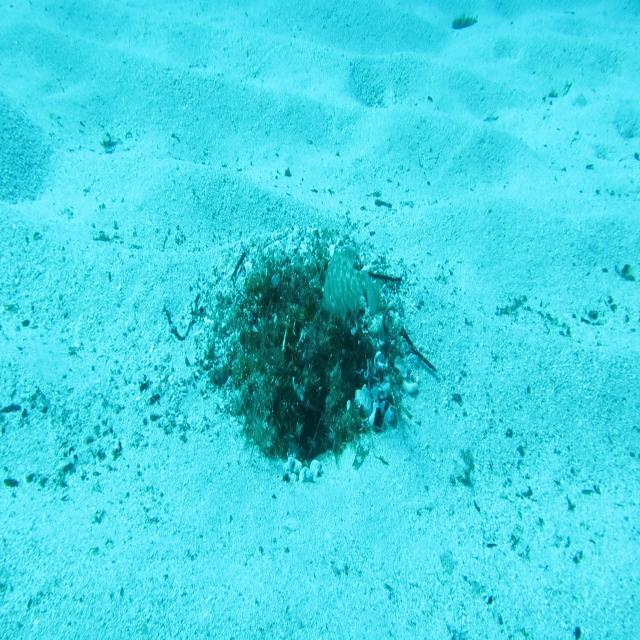NIP_CORE: (319, 244, 381, 320)
core_nest: (274, 281, 322, 319)
nest: (190, 212, 435, 488)
vegetation: (450, 16, 479, 34)
